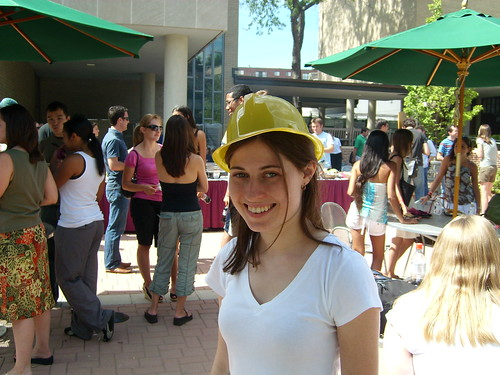person hardhat: (211, 91, 386, 375)
